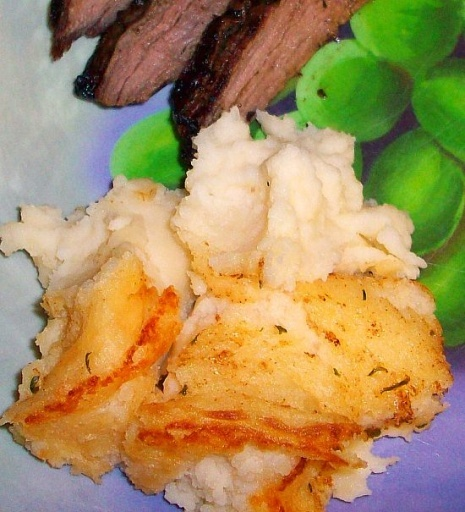background: (0, 0, 331, 410)
